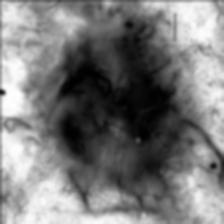Potentially Malignant Skin Tumors: (54, 36, 174, 196)
